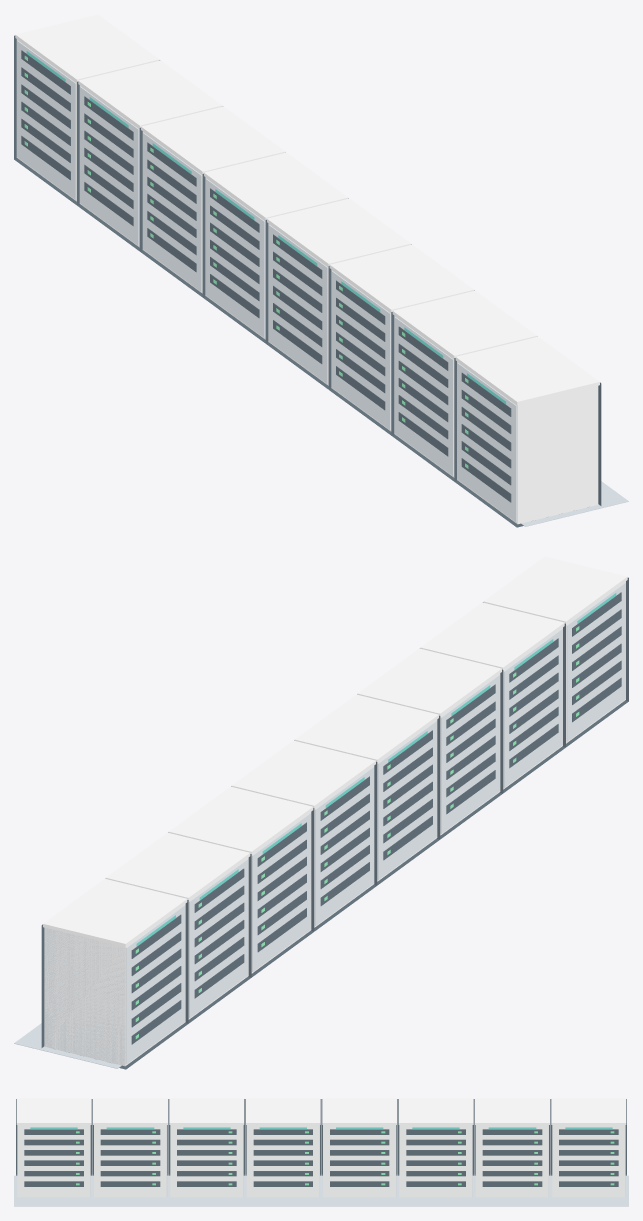
The model's file is rack.glb.
The picture shows the model from 3 angles, top to bottom: view 1: azimuth 30°, elevation 25°; view 2: azimuth 150°, elevation 25°; view 3: azimuth 270°, elevation 25°; orthographic projection. The views are drawn at different scales.
Parts seen in each view (by area): view 1: rack-row; view 2: rack-row; view 3: rack-row.
Boxes of the visible parts, x1,y1,x2,y2 form: rack-row: (14,14,628,527); rack-row: (14,556,628,1069); rack-row: (14,1098,628,1206).
Bounding box in the file's own units: 2.02 × 2.2 × 16.1.
